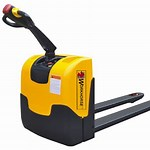Pallet Jack: (1, 4, 150, 147)
